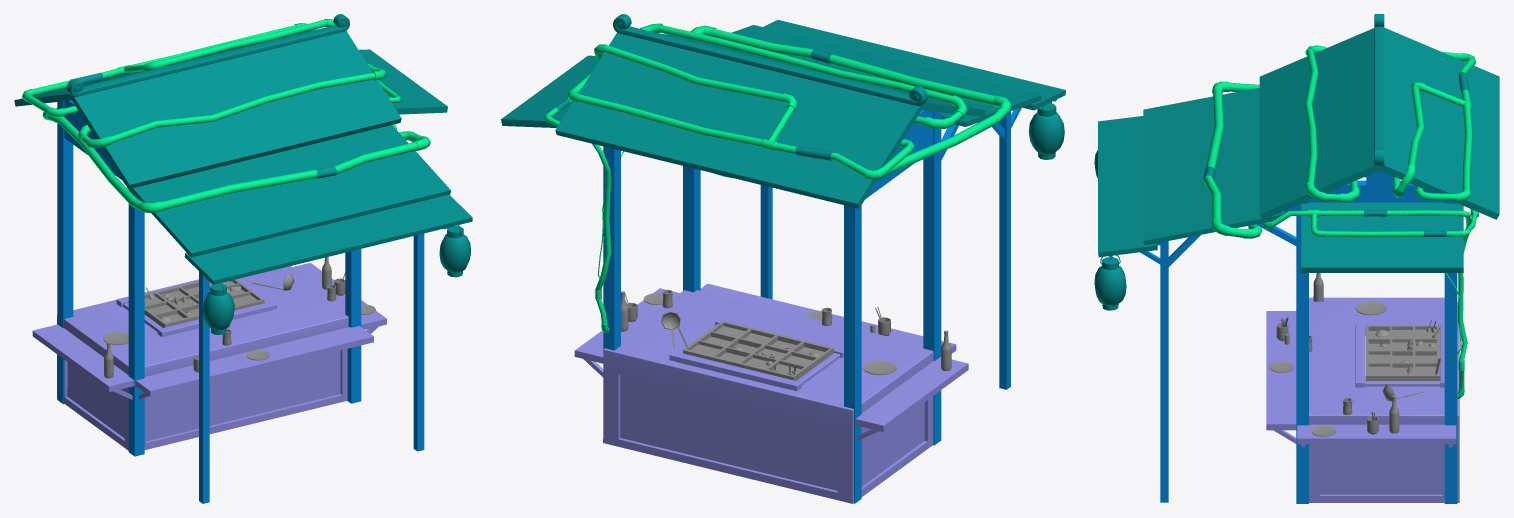
The model's file is SM_ENV_LKNVLD_Stall_A.gltf.
3 renders of one model, left to right at view 1: azimuth 30°, elevation 25°; view 2: azimuth 150°, elevation 25°; view 3: azimuth 270°, elevation 25°, orthographic. The views are drawn at different scales.
Parts seen in each view (by area): view 1: SM_ENV_LKNVLD_Stall_A; view 2: SM_ENV_LKNVLD_Stall_A; view 3: SM_ENV_LKNVLD_Stall_A.
Boxes of the visible parts, x1,y1,x2,y2 form: SM_ENV_LKNVLD_Stall_A: (14, 14, 472, 503); SM_ENV_LKNVLD_Stall_A: (501, 14, 1065, 503); SM_ENV_LKNVLD_Stall_A: (1094, 14, 1499, 503).
Size of the model in its own units: 3.84 by 3.68 by 3.71.
